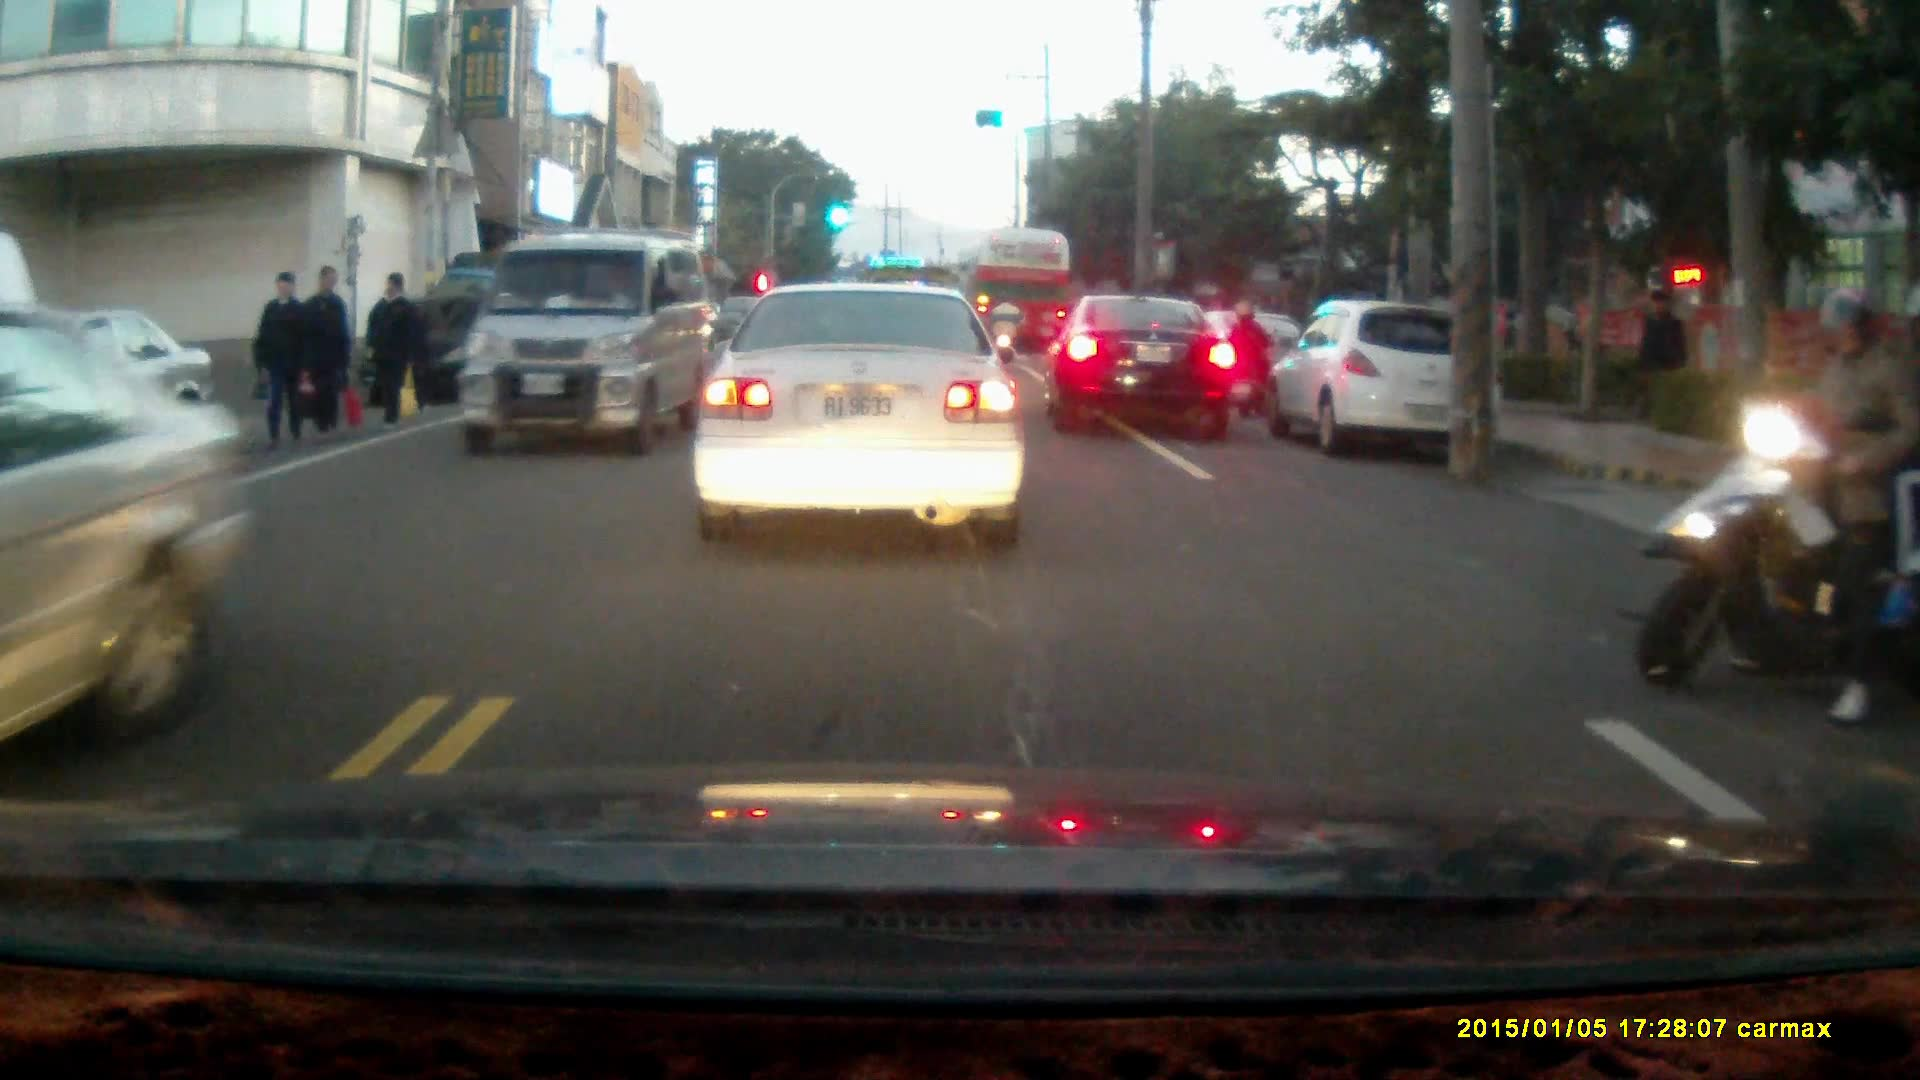pedestrian: (281, 263, 346, 460), (248, 266, 313, 455), (360, 269, 421, 430), (1638, 285, 1692, 425)
rider: (1640, 281, 1917, 717), (1224, 297, 1277, 418), (986, 290, 1025, 372)
vehicle: (1, 319, 258, 754), (690, 280, 1029, 551), (457, 229, 713, 459), (1261, 296, 1503, 464), (1045, 297, 1242, 442), (371, 293, 537, 410), (972, 224, 1072, 368)
